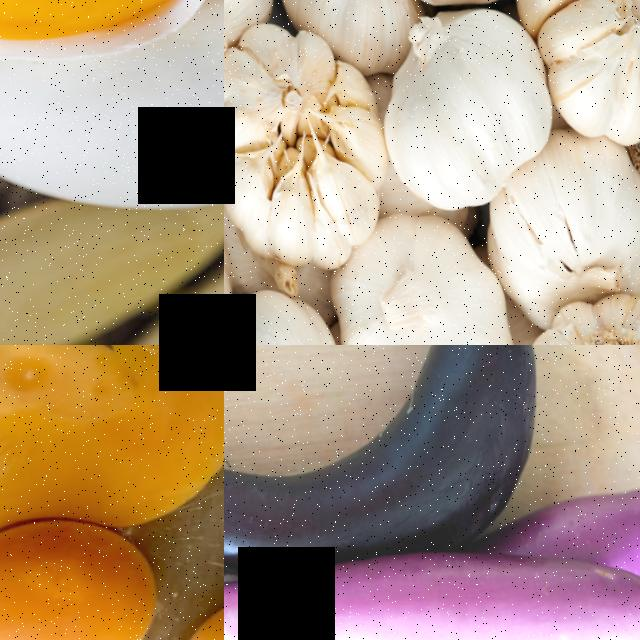egg_: (0, 0, 224, 281), (0, 477, 186, 640), (0, 0, 224, 92)
eggplant: (224, 345, 575, 621), (224, 498, 517, 640)
garlic: (224, 1, 412, 281), (355, 0, 572, 225), (466, 105, 640, 327), (314, 192, 538, 345), (508, 0, 640, 145), (224, 274, 369, 345)
